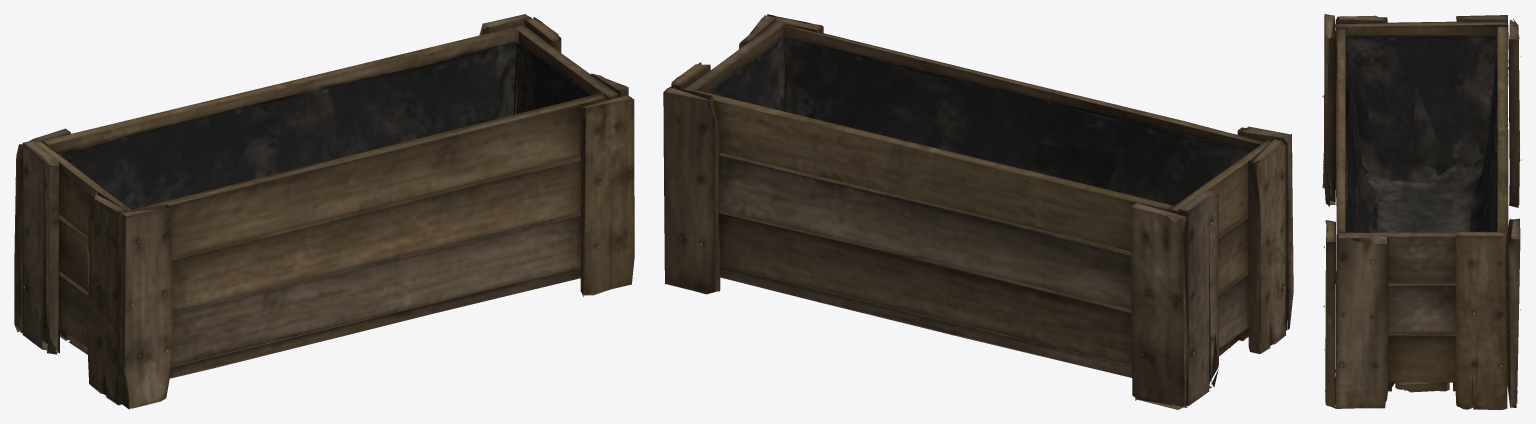
Rendered from planter_box_02_1k.gltf.lod.glb.
3 views of the same model, side by side, from view 1: azimuth 30°, elevation 25°; view 2: azimuth 150°, elevation 25°; view 3: azimuth 270°, elevation 25° (orthographic). The views are drawn at different scales.
Parts seen in each view (by area): view 1: planter_box_02; view 2: planter_box_02; view 3: planter_box_02.
Boxes of the visible parts, <box> form: planter_box_02: <box>14,14,634,409</box>; planter_box_02: <box>663,14,1293,409</box>; planter_box_02: <box>1322,14,1521,409</box>.
Size of the model in its own units: 1.25 by 0.455 by 0.4692.
1 material, 1 textured.
